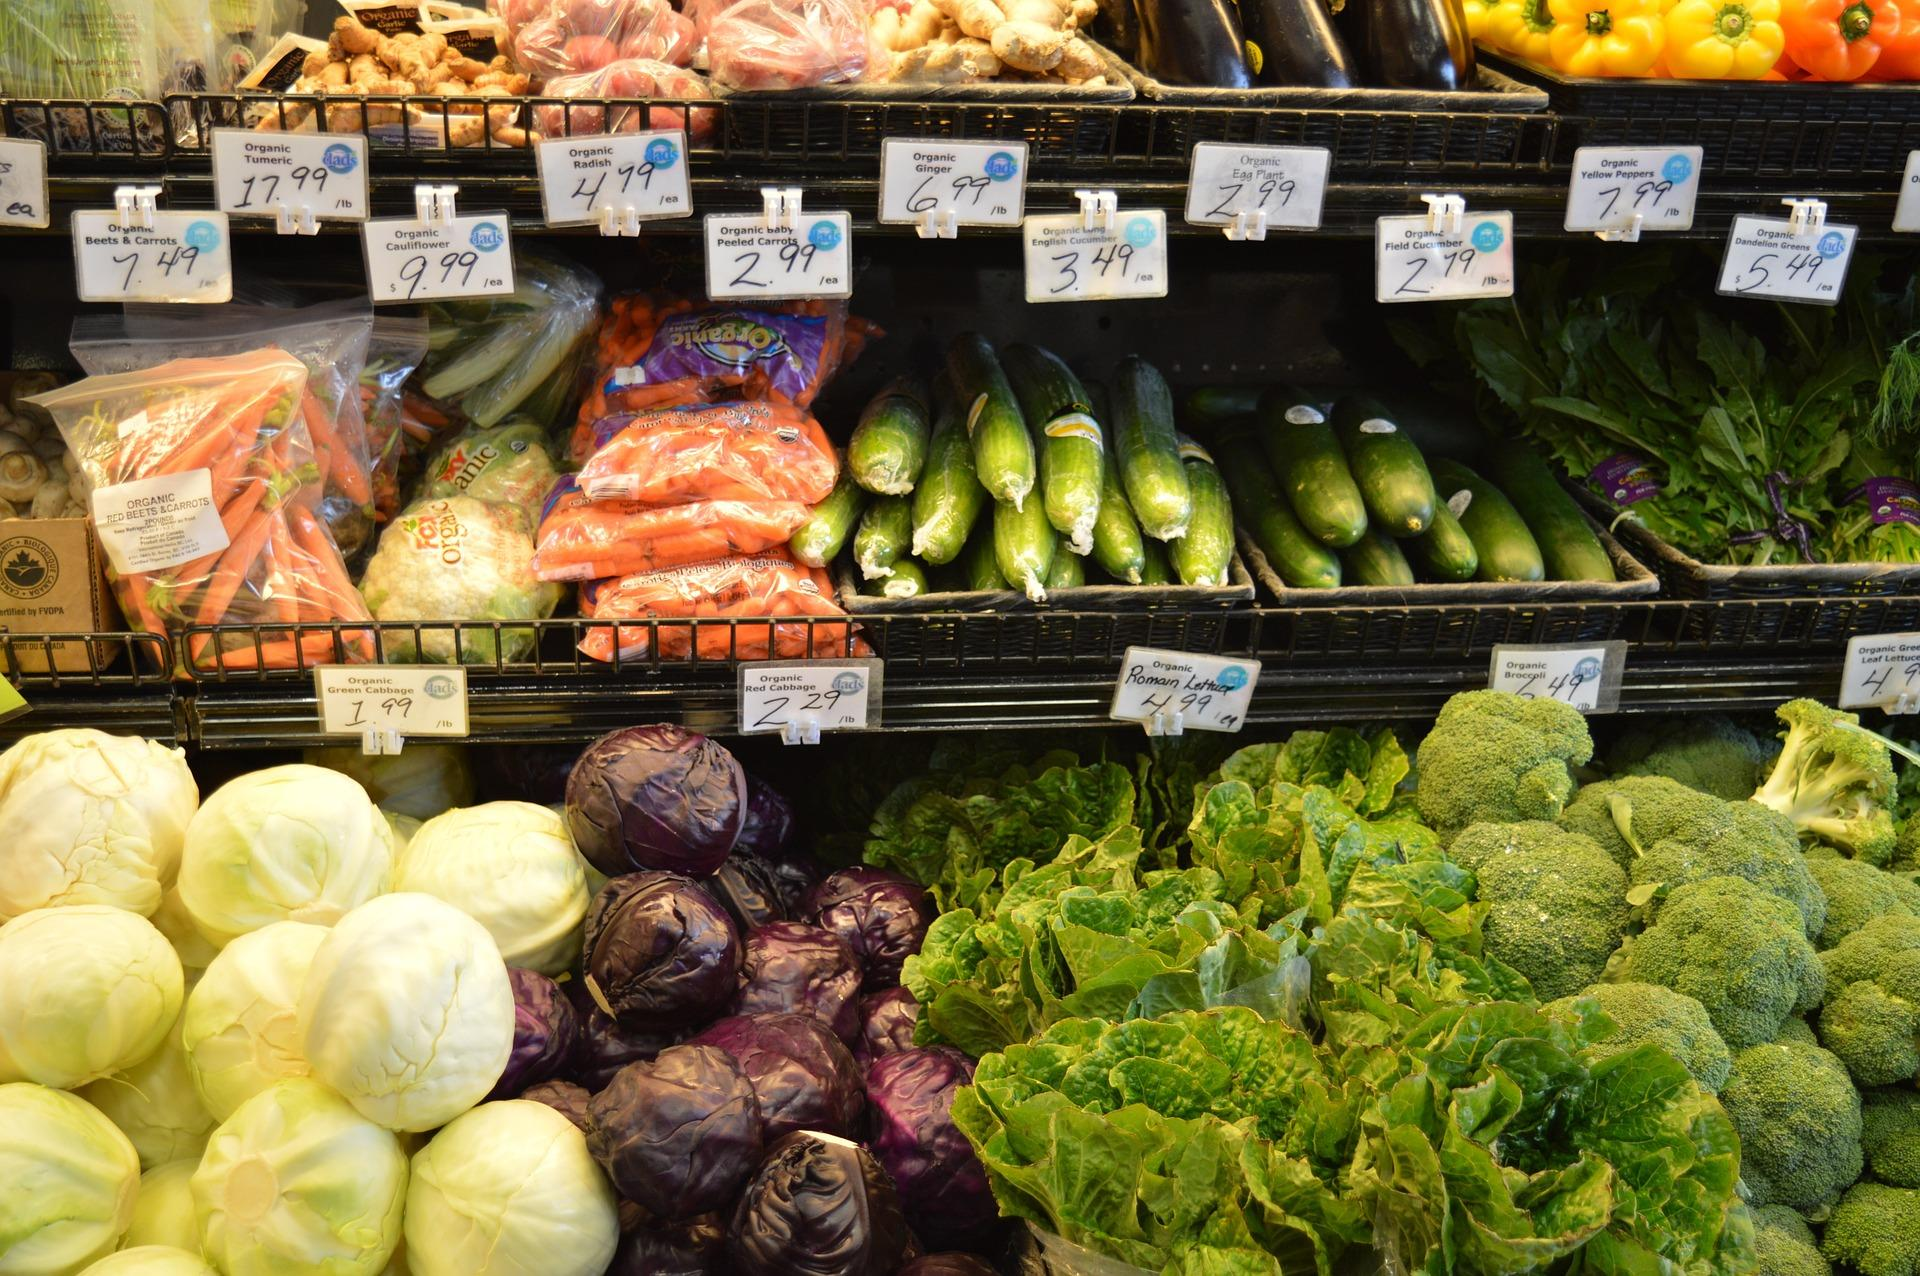cabbage: (0, 725, 621, 1276)
carrot: (555, 298, 869, 649), (70, 375, 376, 659)
cucumber: (808, 335, 1248, 611), (1222, 372, 1631, 595)
eggplant: (1124, 0, 1488, 87)
ginger: (880, 0, 1114, 84)
sweet pepper: (1466, 0, 1920, 87)
